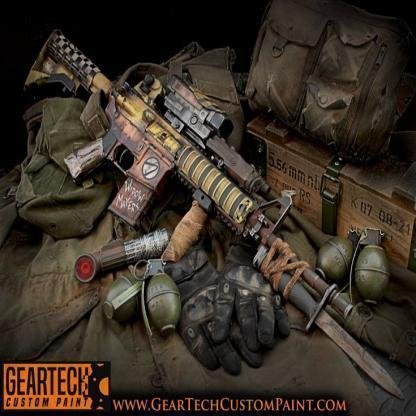Grenade: (131, 257, 181, 339), (348, 225, 391, 312), (316, 224, 357, 287), (101, 271, 143, 323)
Gun: (22, 28, 354, 321)
Knife: (255, 245, 407, 405)
